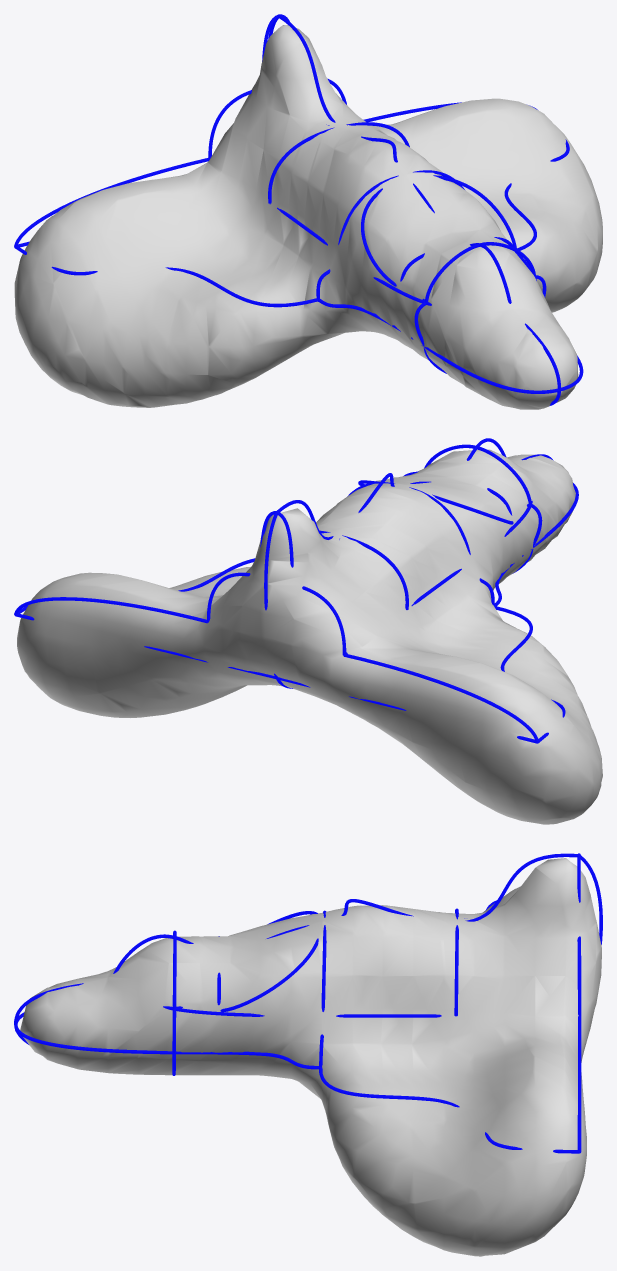
Rendered from t2f_fighter_sketch_proxy.glb.
3 renders of one model, top to bottom at view 1: azimuth 30°, elevation 25°; view 2: azimuth 150°, elevation 25°; view 3: azimuth 270°, elevation 25°, orthographic.
Parts seen in each view (by area): view 1: t2f_fighter_surface, t2f_fighter; view 2: t2f_fighter_surface, t2f_fighter; view 3: t2f_fighter_surface, t2f_fighter.
Boxes of the visible parts, bbox=[...] form: t2f_fighter_surface: bbox=[14, 25, 602, 409]; t2f_fighter: bbox=[14, 14, 583, 406]; t2f_fighter_surface: bbox=[17, 449, 602, 824]; t2f_fighter: bbox=[14, 438, 578, 743]; t2f_fighter_surface: bbox=[20, 858, 601, 1256]; t2f_fighter: bbox=[14, 853, 602, 1153].
Bounding box in the file's own units: 0.7453 × 0.3694 × 0.6709.
